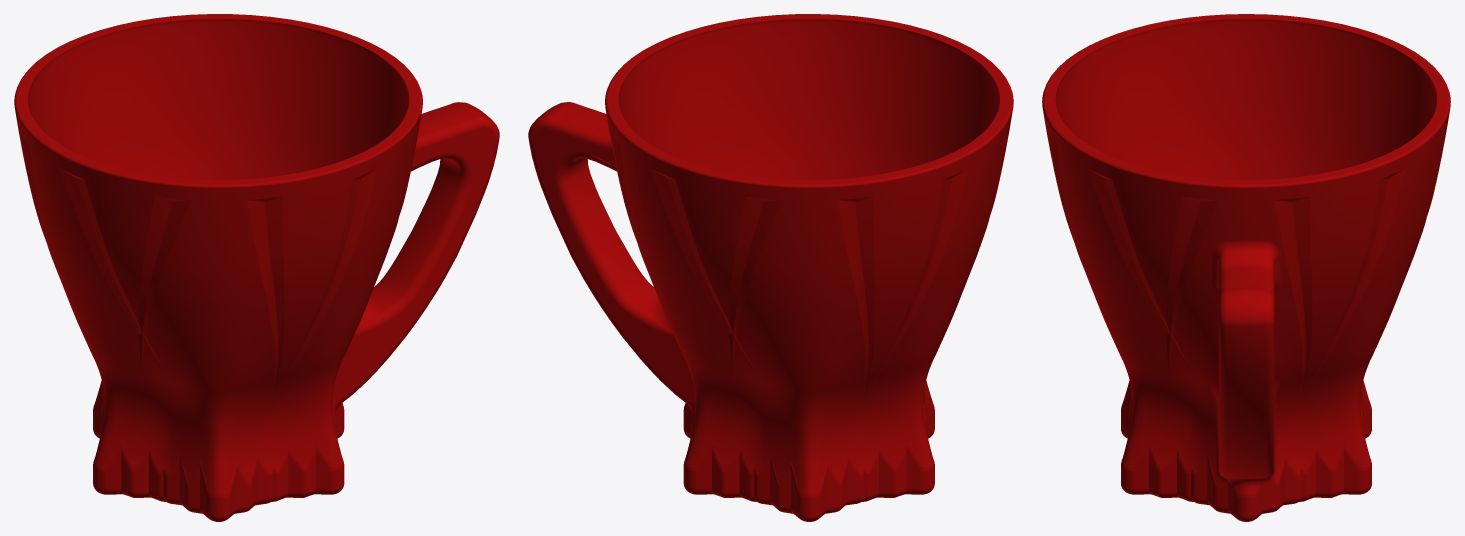
Rendered from CM-MUG027.glb.
The picture shows the model from 3 angles, left to right: view 1: azimuth 30°, elevation 25°; view 2: azimuth 150°, elevation 25°; view 3: azimuth 270°, elevation 25°; orthographic projection.
Bounding box in the file's own units: 0.1024 × 0.0805 × 0.0808.
